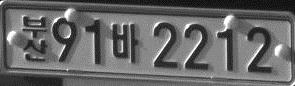1: (82, 19, 109, 65), (215, 24, 238, 70)
2: (247, 26, 273, 73), (152, 21, 178, 67), (184, 22, 209, 69)
9: (51, 17, 77, 63)
바: (111, 23, 139, 64)
부산_V: (21, 15, 47, 61)
